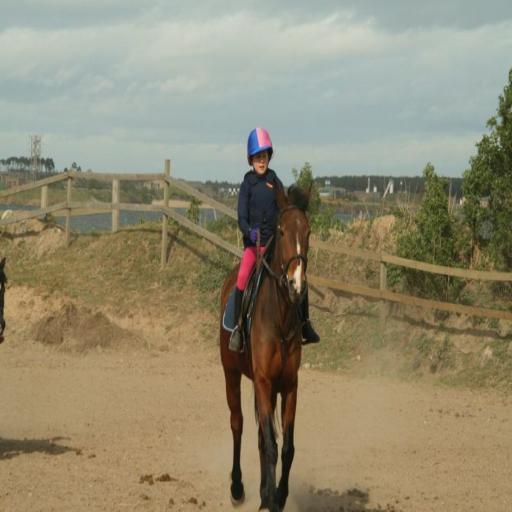horse: (220, 176, 314, 512)
